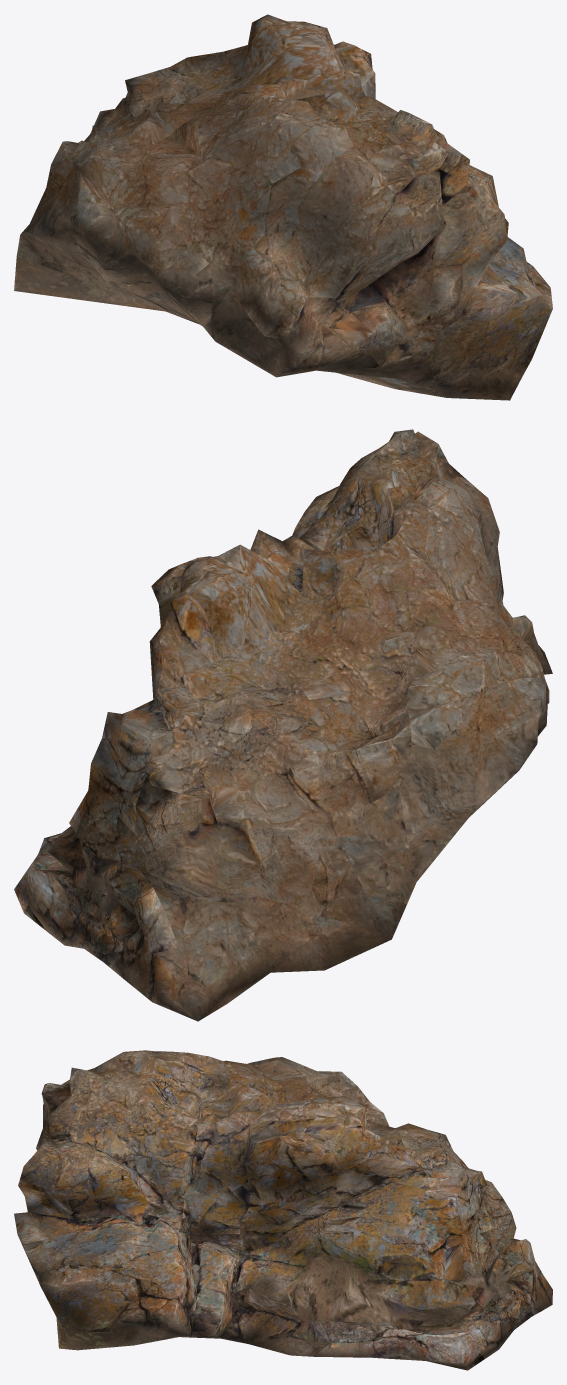
The model's file is rock.obj.
The picture shows the model from 3 angles, top to bottom: view 1: azimuth 30°, elevation 25°; view 2: azimuth 150°, elevation 25°; view 3: azimuth 270°, elevation 25°; orthographic projection. The views are drawn at different scales.
Parts seen in each view (by area): view 1: boulder_01; view 2: boulder_01; view 3: boulder_01.
Part boxes in pixels (x1,y1,x2,y2): boulder_01: (14,14,552,400); boulder_01: (14,429,552,1021); boulder_01: (14,1050,552,1370).
Bounding box in the file's own units: 1.27 × 1 × 1.81.
Materials: 1 (1 with a texture image).
